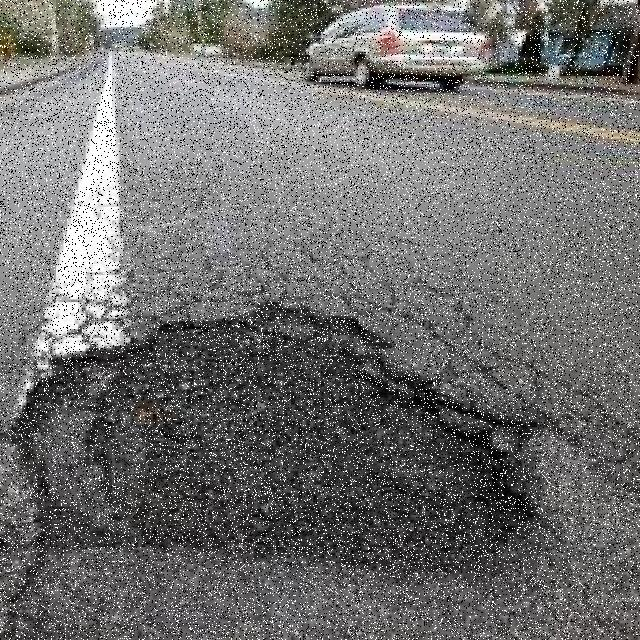pothole: (4, 308, 567, 555)
